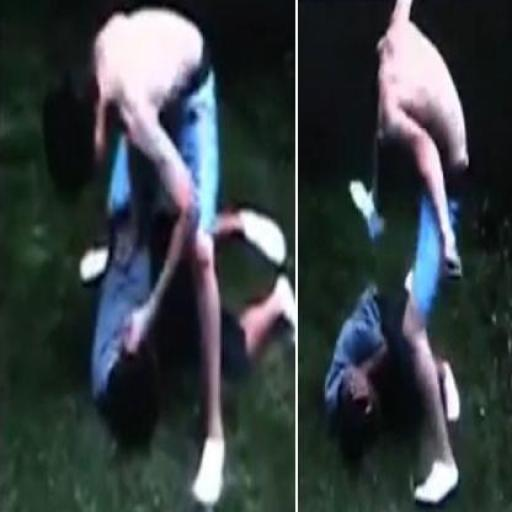Fighting: (39, 11, 294, 512), (312, 1, 484, 506)
